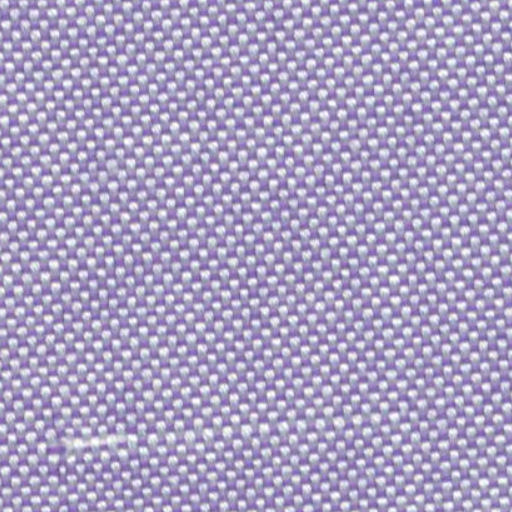DaiSha: (40, 405, 434, 460)
